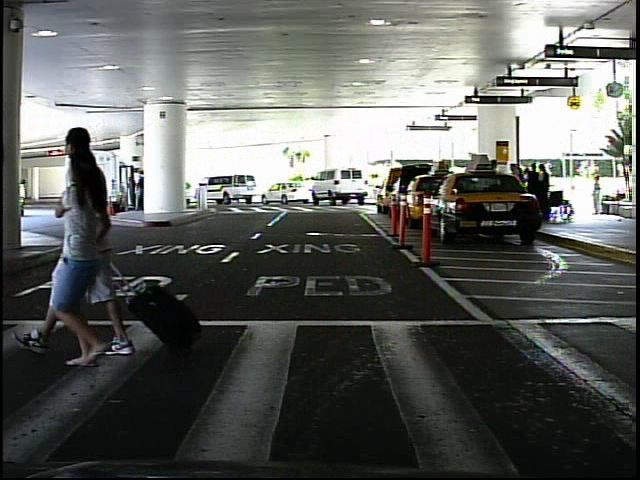person: (63, 138, 138, 377), (56, 115, 124, 362), (81, 170, 99, 220), (588, 172, 607, 218)
